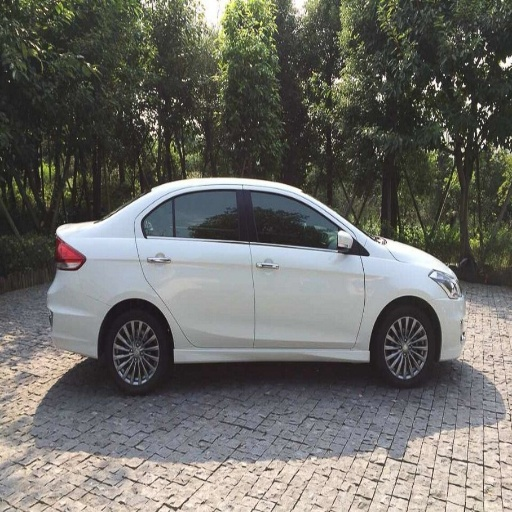back_right_door: (136, 187, 252, 348)
front_right_door: (246, 187, 364, 347)
